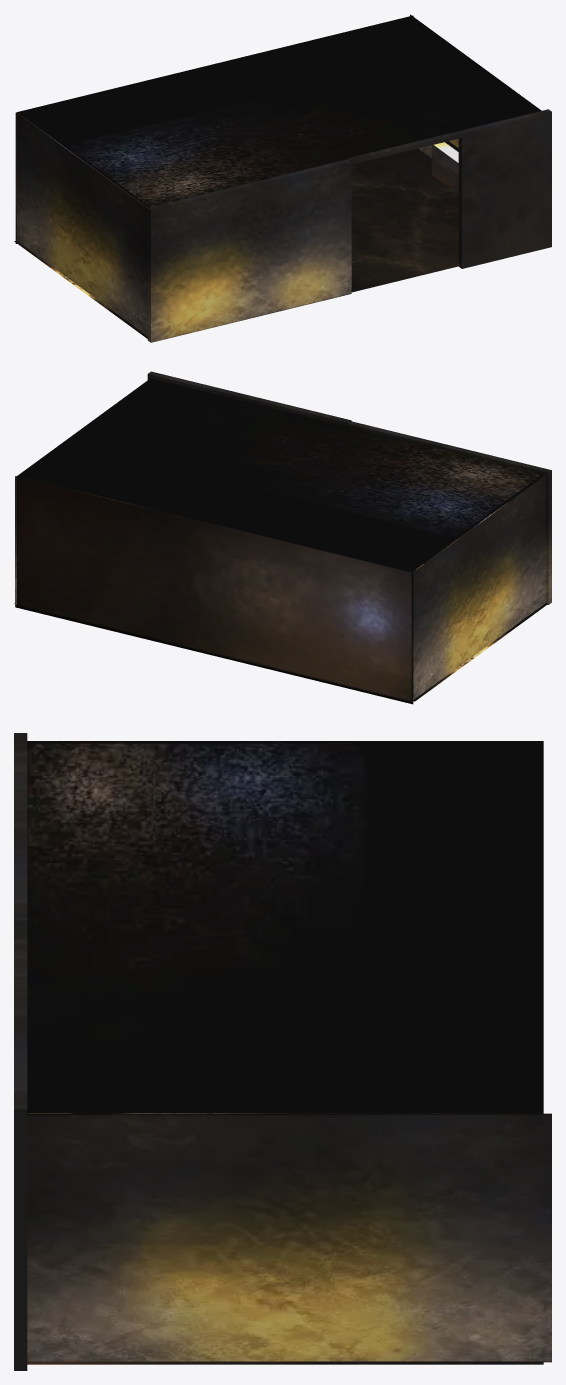
File: kitchen_new_layer.glb
The picture shows the model from 3 angles, top to bottom: view 1: azimuth 30°, elevation 25°; view 2: azimuth 150°, elevation 25°; view 3: azimuth 270°, elevation 25°; orthographic projection. The views are drawn at different scales.
Visible parts, largest first — view 1: Plane, Plane.030, Plane.002, Plane.033, Plane.034, Cube.003, Plane.027, Plane.036; view 2: Plane.036, Plane, Plane.002, Plane.030, Plane.033, Plane.027, Plane.001; view 3: Plane, Plane.001, Plane.033, Plane.030, Plane.034.
Boxes of the visible parts, bbox=[...] form: Plane: bbox=[17, 16, 540, 207]; Plane.030: bbox=[147, 159, 351, 342]; Plane.002: bbox=[17, 113, 147, 335]; Plane.033: bbox=[348, 109, 551, 268]; Plane.034: bbox=[351, 148, 461, 292]; Cube.003: bbox=[431, 141, 458, 193]; Plane.027: bbox=[14, 240, 147, 338]; Plane.036: bbox=[15, 15, 413, 243]; Plane.036: bbox=[15, 476, 413, 704]; Plane: bbox=[18, 378, 544, 572]; Plane.002: bbox=[412, 475, 545, 699]; Plane.030: bbox=[348, 421, 551, 604]; Plane.033: bbox=[147, 371, 351, 426]; Plane.027: bbox=[347, 556, 548, 701]; Plane.001: bbox=[15, 378, 150, 605]; Plane: bbox=[27, 741, 543, 1113]; Plane.001: bbox=[27, 1113, 551, 1362]; Plane.033: bbox=[14, 920, 27, 1370]; Plane.030: bbox=[14, 733, 27, 920]; Plane.034: bbox=[27, 1361, 543, 1364].
Bounding box in the file's own units: 16.79 × 5.42 × 10.09.
Materials: 17 (17 with a texture image).
